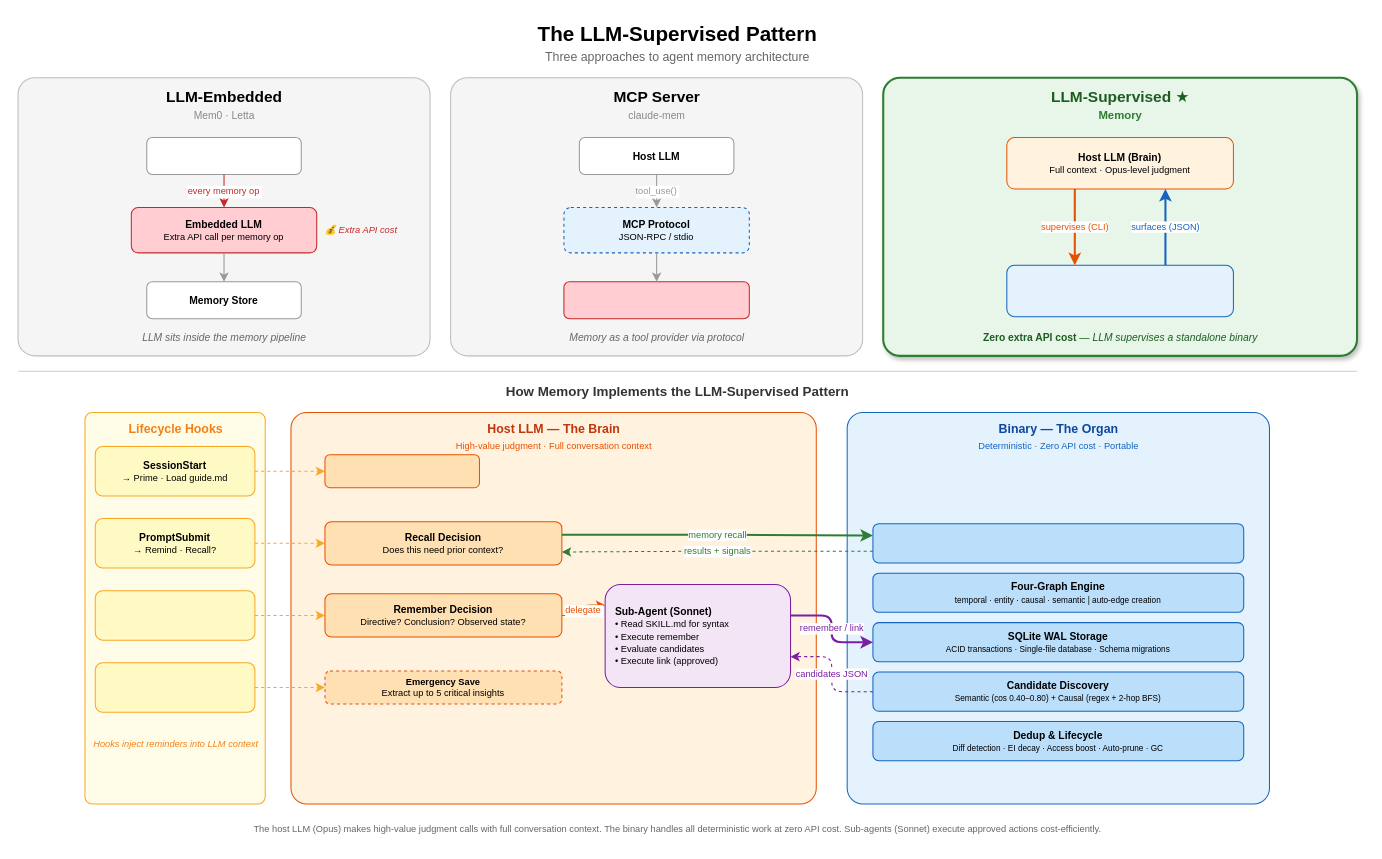
The diagram is 1382 pixels wide and 859 high, and some of its shapes have lost their labels. Here are the shapes that lost their labels. From the top down, the centre of each, then its label:
the point at 223,155: Application
the point at 656,300: Memory Server + embedded LLM sub-agents
the point at 1119,290: Binary (Organ) Deterministic · Zero API cost
the point at 401,471: guide.md behavioral execution manual
the point at 1058,543: Search Engine Intent detection · RRF fusion · Beam search · Reranking
the point at 174,615: Stop → Nudge · Remember?
the point at 174,687: PreCompact → Compact · Save
